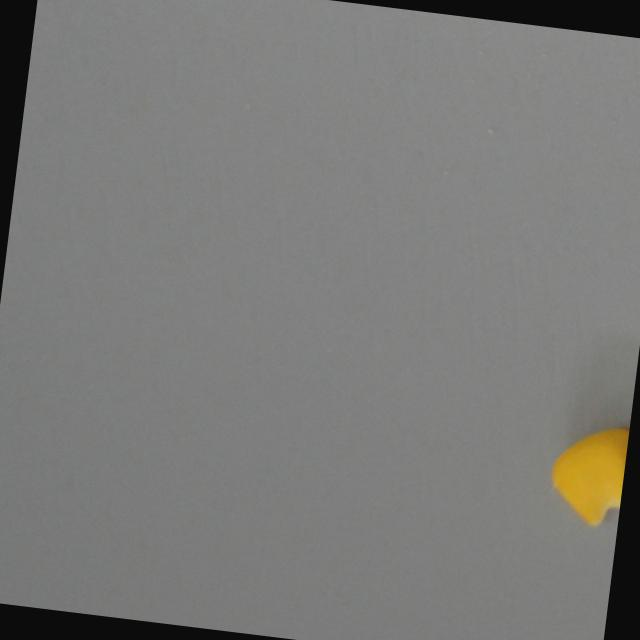no_canjicado: (546, 417, 629, 529)
